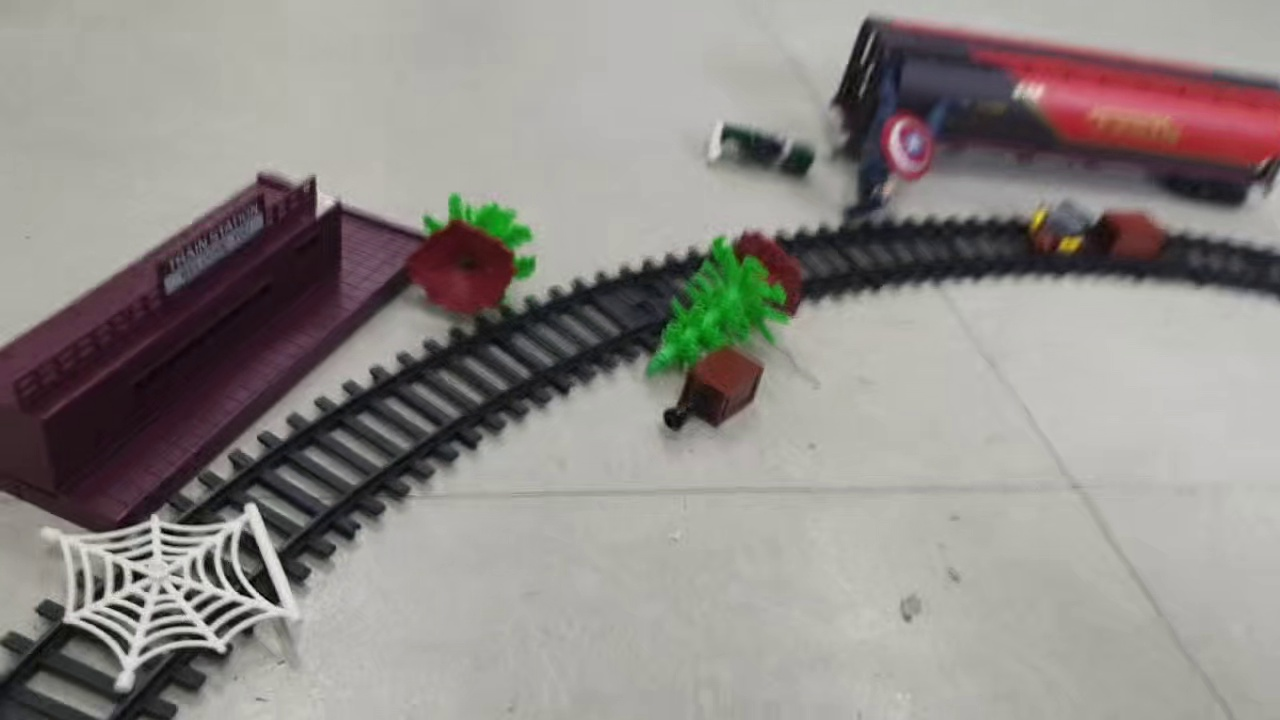box: (661, 347, 765, 430), (1078, 210, 1169, 266)
people: (838, 67, 951, 219), (704, 116, 819, 183), (1025, 193, 1099, 266)
tree: (644, 230, 806, 384), (407, 192, 542, 319)
web: (39, 499, 304, 695)
